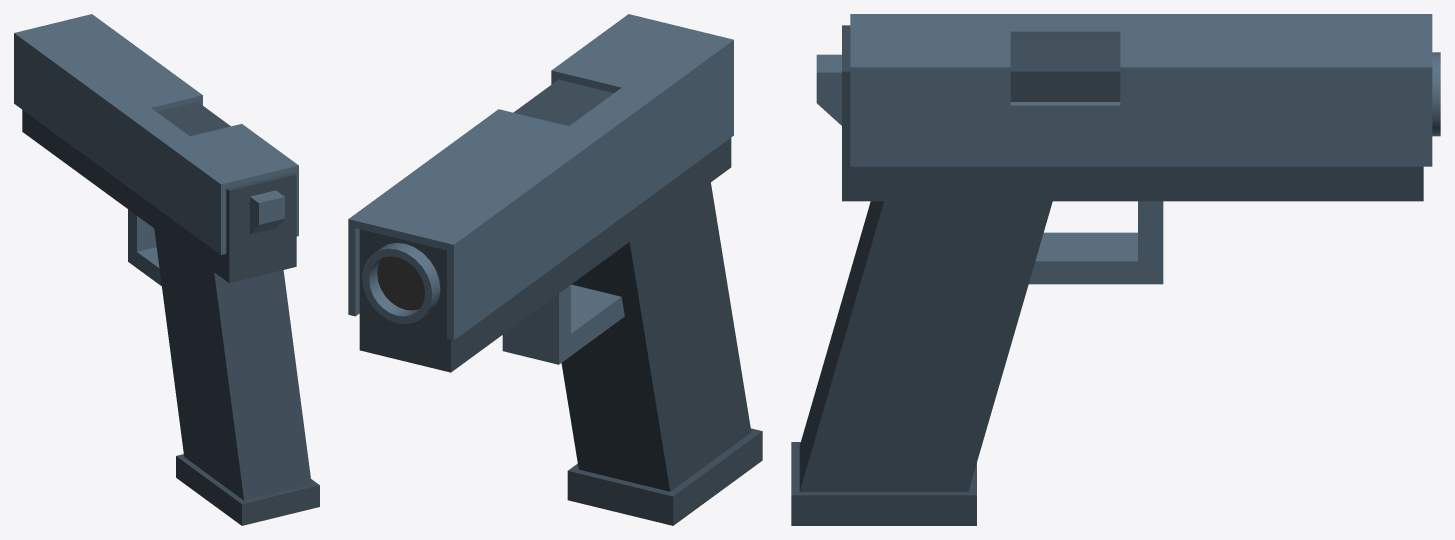
File: pistol.obj
The picture shows the model from 3 angles, left to right: view 1: azimuth 30°, elevation 25°; view 2: azimuth 150°, elevation 25°; view 3: azimuth 270°, elevation 25°; orthographic projection. The views are drawn at different scales.
Parts seen in each view (by area): view 1: Group; view 2: Group; view 3: Group.
Boxes of the visible parts, x1,y1,x2,y2 form: Group: [14, 14, 319, 525]; Group: [348, 14, 762, 525]; Group: [791, 14, 1440, 525].
Size of the model in its own units: 0.0574 by 0.2297 by 0.2948.
